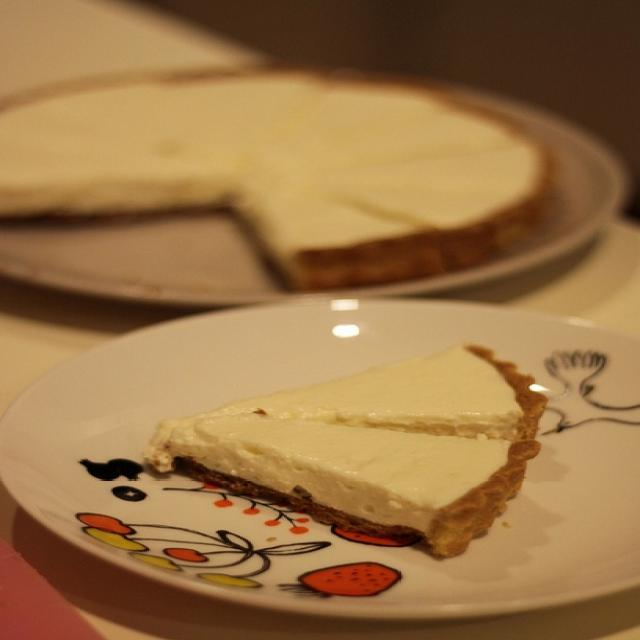Rare cheese cake: (2, 59, 628, 285), (145, 344, 578, 547)
